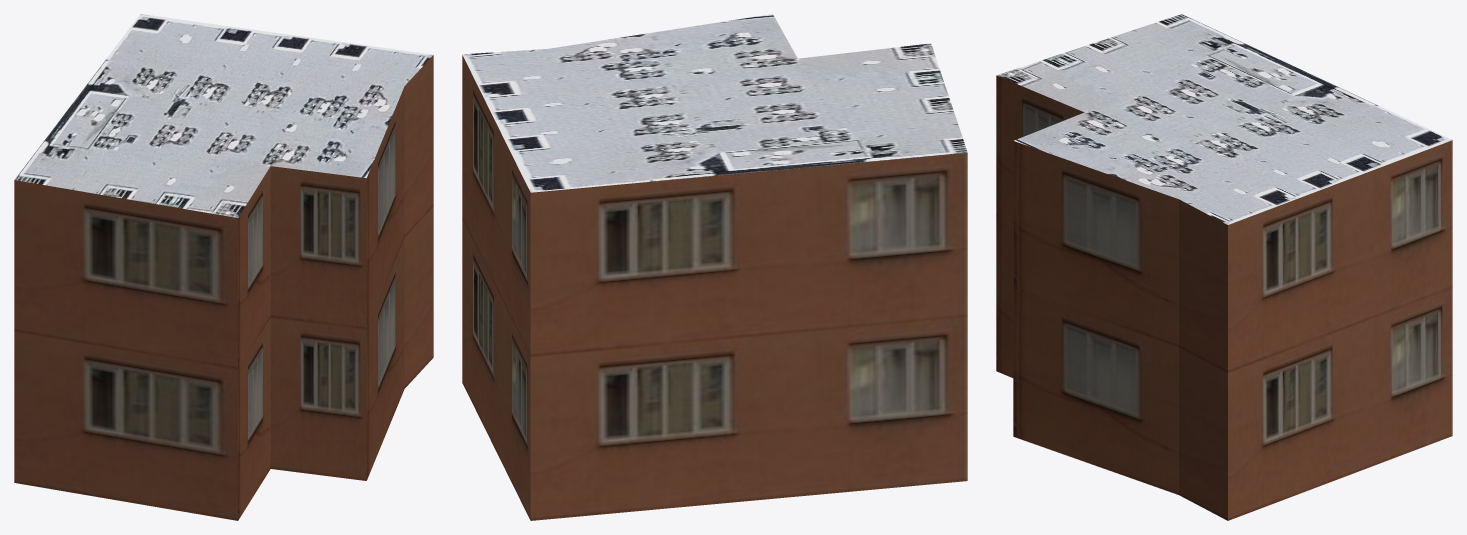
File: ResTex__2801.fbx
3 renders of one model, left to right at view 1: azimuth 30°, elevation 25°; view 2: azimuth 150°, elevation 25°; view 3: azimuth 270°, elevation 25°, orthographic. The views are drawn at different scales.
Parts seen in each view (by area): view 1: CityEngineMaterial_20_m, CityEngineMaterial_m; view 2: CityEngineMaterial_20_m, CityEngineMaterial_m; view 3: CityEngineMaterial_20_m, CityEngineMaterial_m.
Boxes of the visible parts, x1,y1,x2,y2 form: CityEngineMaterial_20_m: [14, 55, 433, 520]; CityEngineMaterial_m: [14, 14, 433, 217]; CityEngineMaterial_20_m: [462, 55, 967, 520]; CityEngineMaterial_m: [462, 14, 967, 192]; CityEngineMaterial_20_m: [996, 75, 1452, 520]; CityEngineMaterial_m: [997, 14, 1452, 224].
Size of the model in its own units: 9.18 by 6 by 8.39.
2 materials, 2 textured.
